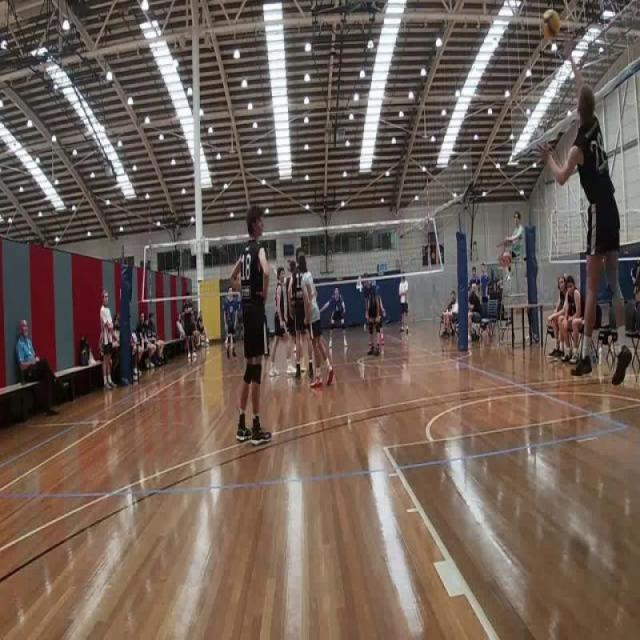volleyball: (541, 7, 560, 43)
